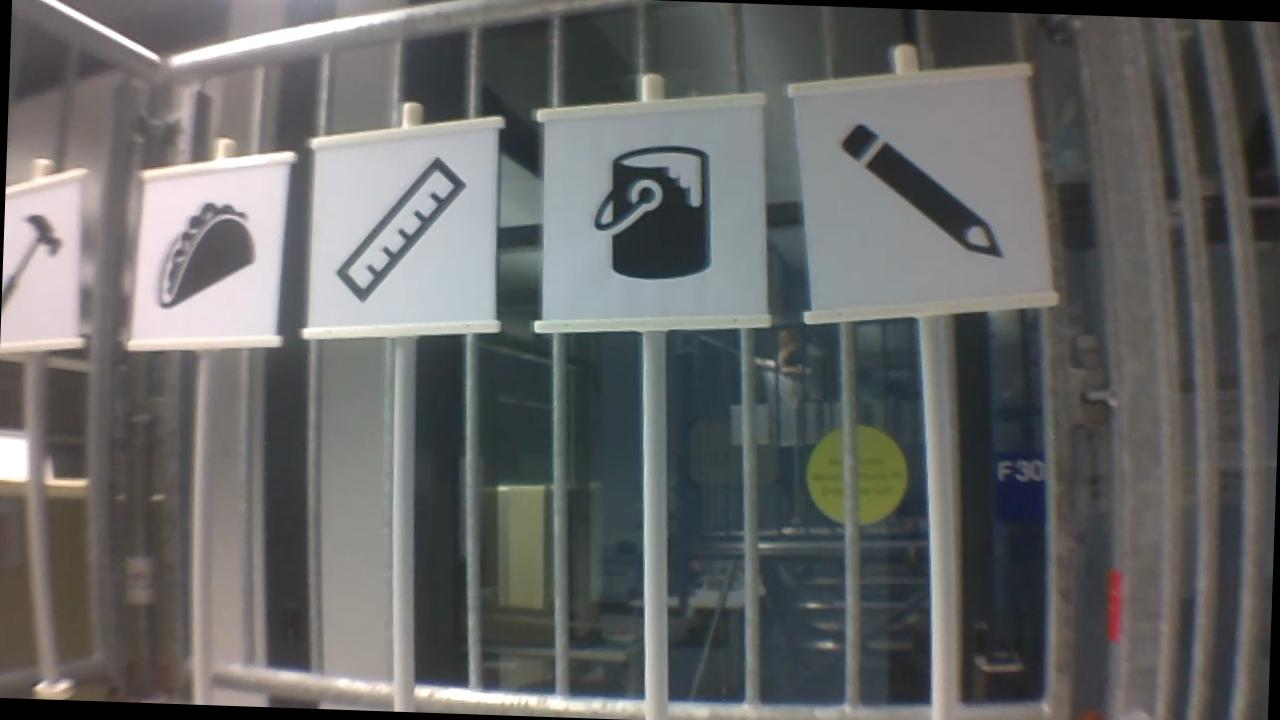bucket: (582, 136, 719, 284)
hammer: (1, 209, 69, 323)
pencil: (826, 114, 1018, 272)
ruler: (326, 148, 470, 312)
taco: (151, 197, 262, 317)
